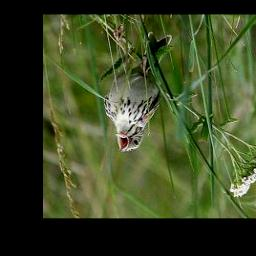Sparrow: (103, 29, 172, 153)
